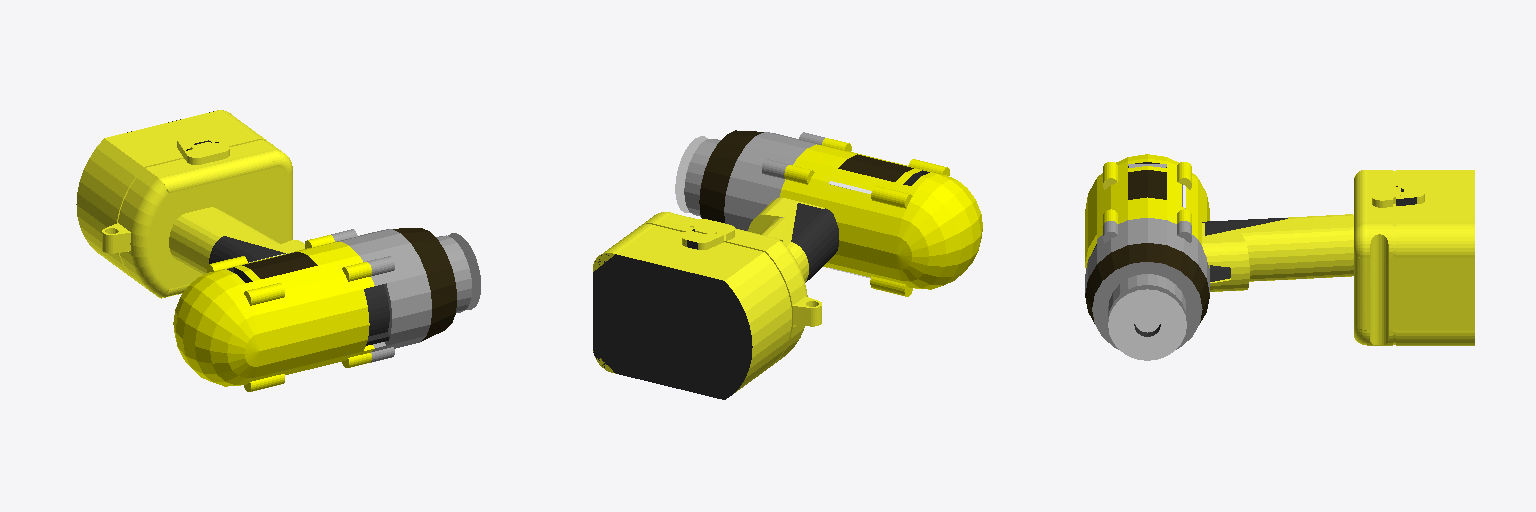
The picture shows the model from 3 angles: view 1: azimuth 30°, elevation 25°; view 2: azimuth 150°, elevation 25°; view 3: azimuth 270°, elevation 25°; orthographic projection.
Parts seen in each view (by area): view 1: base_Mesh1_dewalt_12v_Model; view 2: base_Mesh1_dewalt_12v_Model; view 3: base_Mesh1_dewalt_12v_Model.
Part boxes in pixels (left/top/right/bottom): base_Mesh1_dewalt_12v_Model: left=76, top=110, right=480, bottom=391; base_Mesh1_dewalt_12v_Model: left=593, top=130, right=982, bottom=399; base_Mesh1_dewalt_12v_Model: left=1085, top=154, right=1474, bottom=360.
Bounding box in the file's own units: 0.1551 × 0.0711 × 0.188.